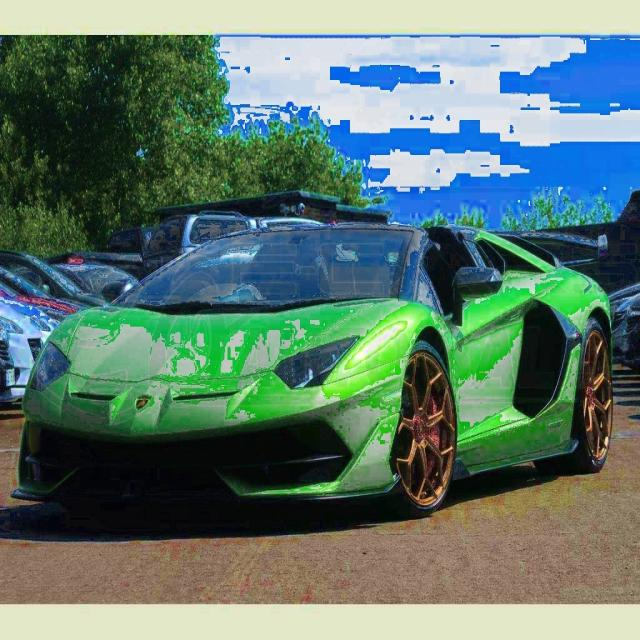green: (18, 221, 615, 521)
